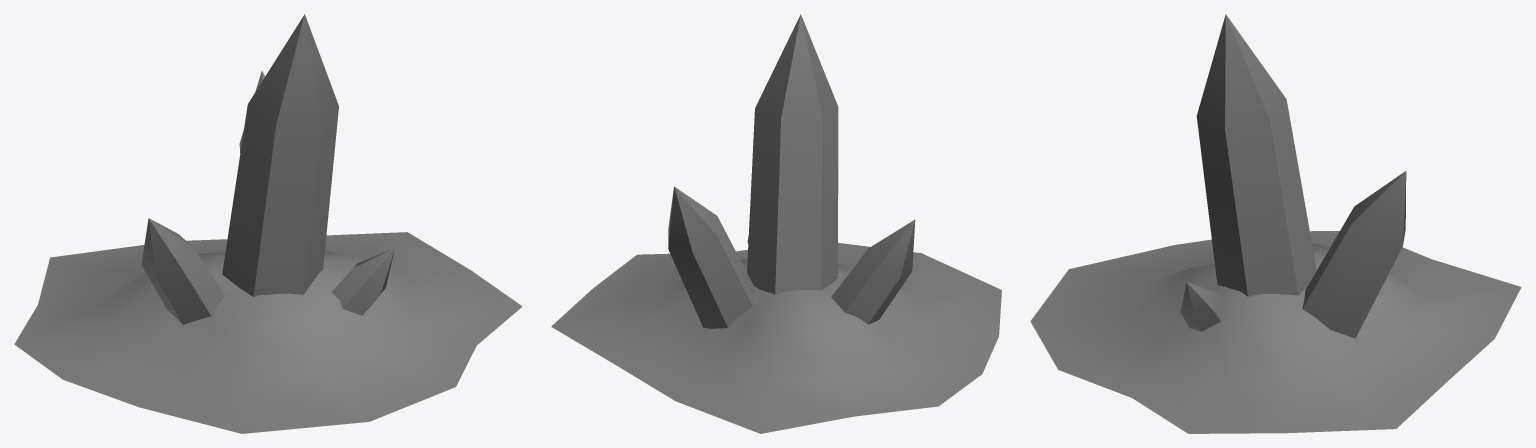
Rendered from crystal_ice_B_lavender.fbx.
3 renders of one model, left to right at view 1: azimuth 30°, elevation 25°; view 2: azimuth 150°, elevation 25°; view 3: azimuth 270°, elevation 25°, orthographic. The views are drawn at different scales.
Parts seen in each view (by area): view 1: crystal_ice_B_lavender; view 2: crystal_ice_B_lavender; view 3: crystal_ice_B_lavender.
Part boxes in pixels (x1,y1,x2,y2): crystal_ice_B_lavender: (14,14,522,433); crystal_ice_B_lavender: (551,14,1001,433); crystal_ice_B_lavender: (1030,14,1521,433).
Size of the model in its own units: 1.29 by 1.05 by 1.32.
